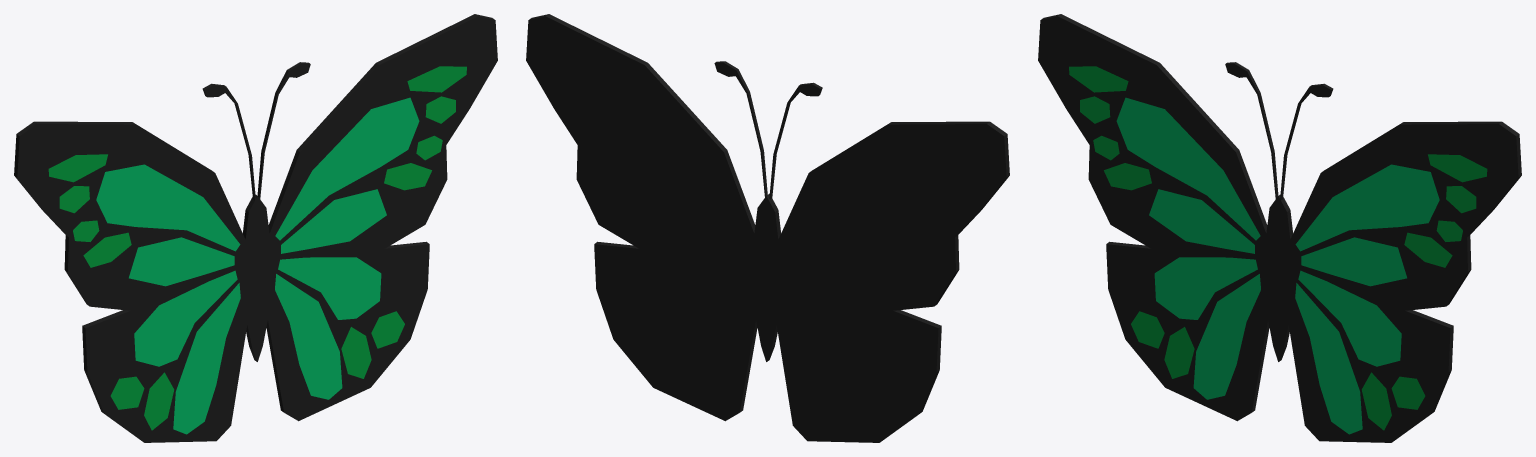
File: prop_052.glb
3 views of the same model, side by side, from view 1: azimuth 30°, elevation 25°; view 2: azimuth 150°, elevation 25°; view 3: azimuth 330°, elevation 25° (orthographic).
Parts seen in each view (by area): view 1: prop_052; view 2: prop_052; view 3: prop_052.
Part boxes in pixels (<box>): prop_052: <box>14,14,497,442</box>; prop_052: <box>526,14,1009,442</box>; prop_052: <box>1038,14,1521,442</box>.
Bounding box in the file's own units: 0.4216 × 0.3026 × 0.0053.
1 material, 1 textured.
